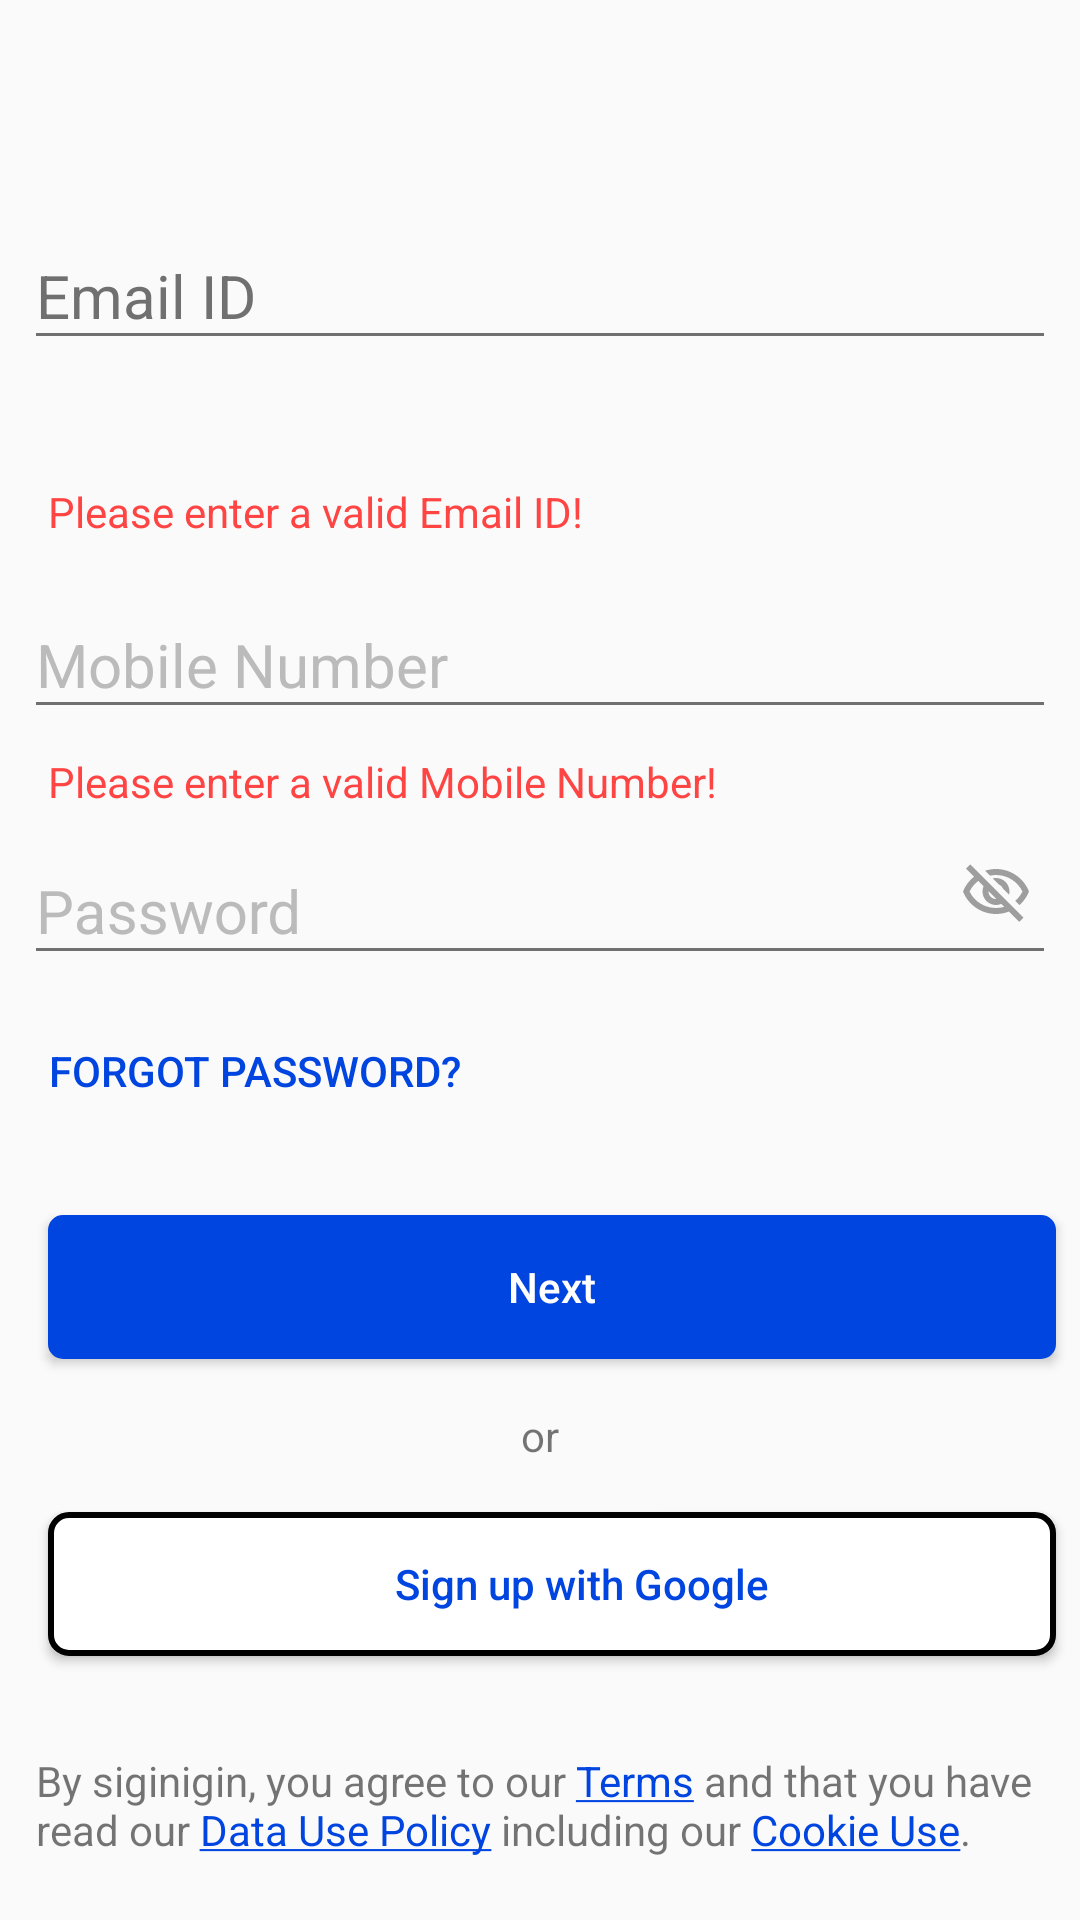

Named icons in this screenshot (1080×1920) and their centers, (x,y):
visibility off: (996,893)
